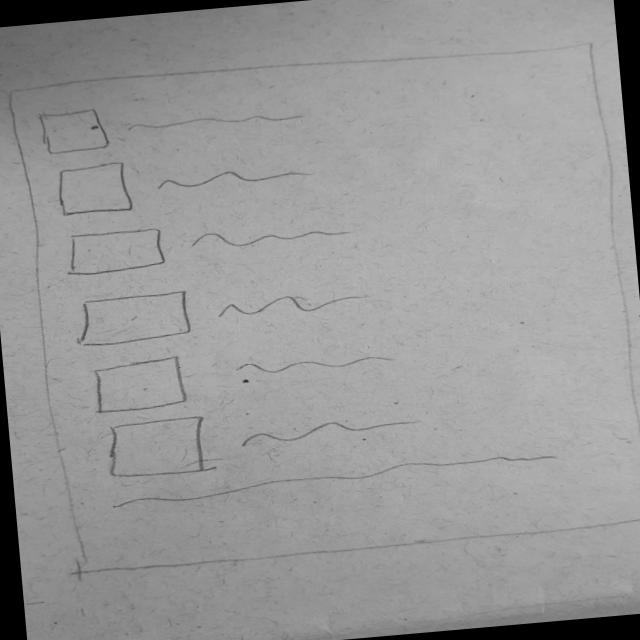checkbox: (80, 332, 406, 418), (99, 396, 414, 480), (72, 266, 374, 349), (62, 204, 354, 284), (46, 143, 321, 224), (34, 84, 310, 161)
container: (0, 30, 640, 581)
text: (100, 448, 568, 511)
